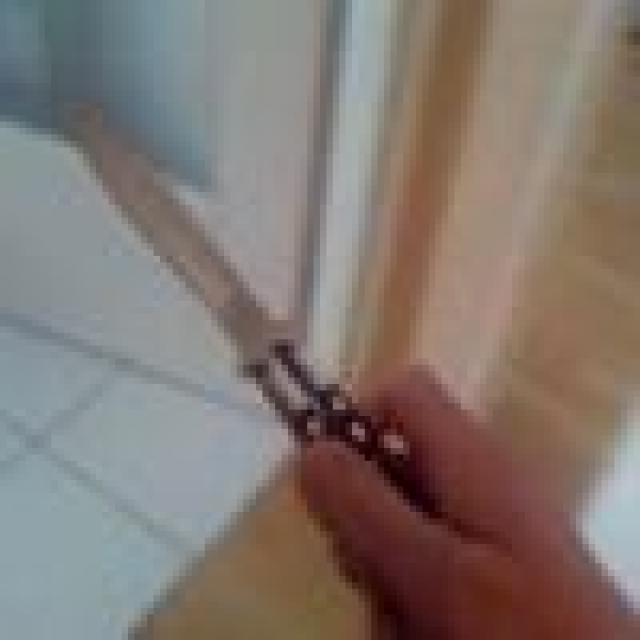Knife: (64, 116, 442, 518)
